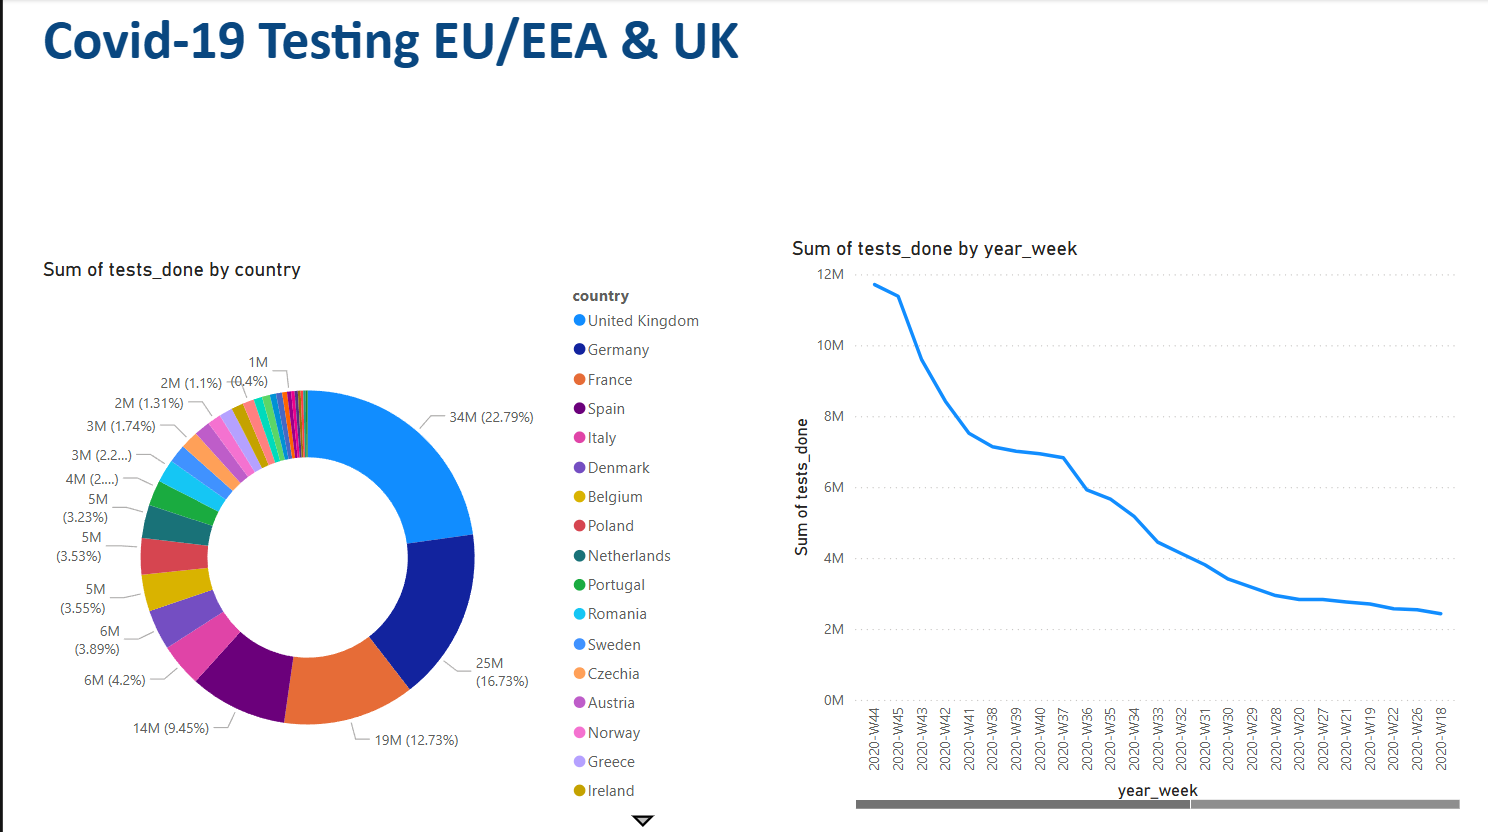

What the dashboard file says about the page in this screenshot:
{"tool":"powerbi","page":{"name":"Testing","canvas":[1280,720],"ordinal":1},"visuals":[{"type":"donutChart","fields":{"Y":["Sum(covid_reporting testing.tests_done)"],"Category":["covid_reporting testing.country"]},"box":[29.3,221.9,584.9,498.3],"z":0},{"type":"lineChart","fields":{"Y":["Sum(covid_reporting testing.tests_done)"],"Category":["covid_reporting testing.year_week"]},"box":[674.2,203.8,584.9,498.3],"z":1000}]}

Visuals, with their boxes in screenshot pixels (x1, y1, x2, y2), scaled from the page's 1280x720 canvas onto the 1488x832 screenshot:
donutChart - Sum(covid_reporting testing.tests_done) x covid_reporting testing.country: Rect(34, 256, 714, 831)
lineChart - Sum(covid_reporting testing.tests_done) x covid_reporting testing.year_week: Rect(784, 236, 1464, 811)
